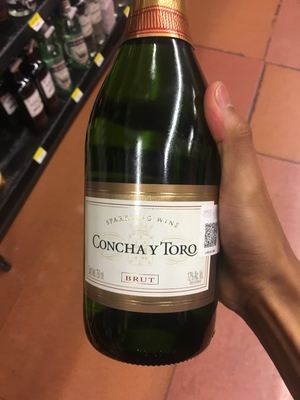brut: (79, 18, 228, 359)
